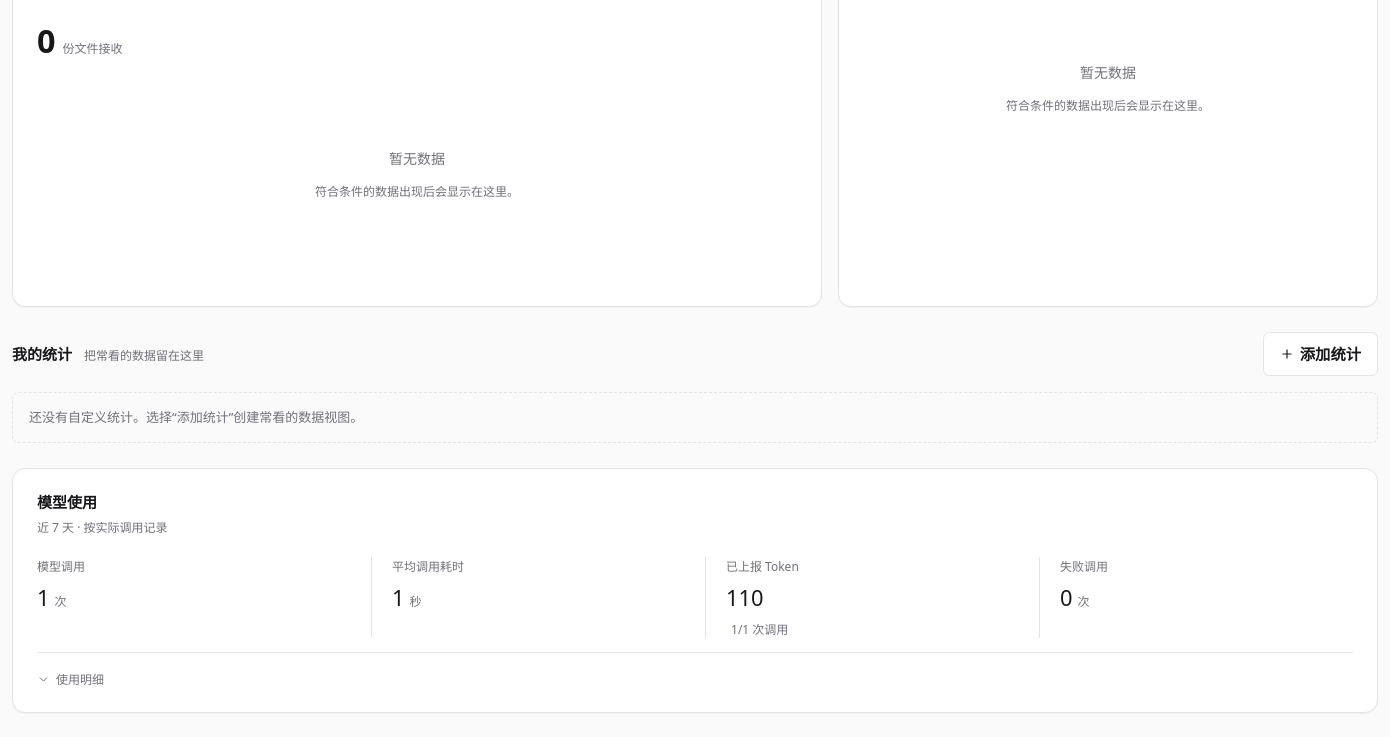
does not expose binary multiplication noise for an exact model cache percentage
(page scrolled)
Click the button "使用明细". click: click(70, 680)
box: [37,665,104,694]
(page scrolled)
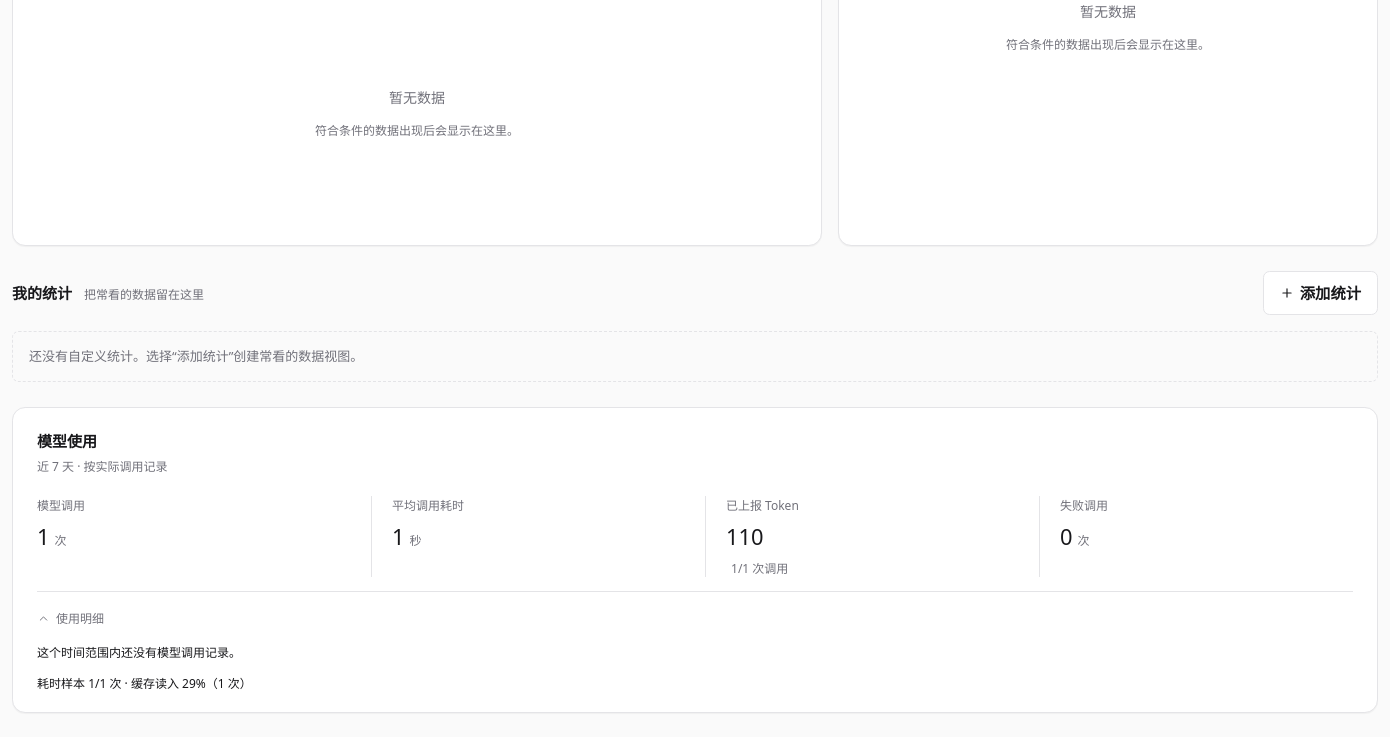
Check: the text "耗时样本 1/1 次 · 缓存读入 29%（1 次）" is shown, box [37,675,252,692]
